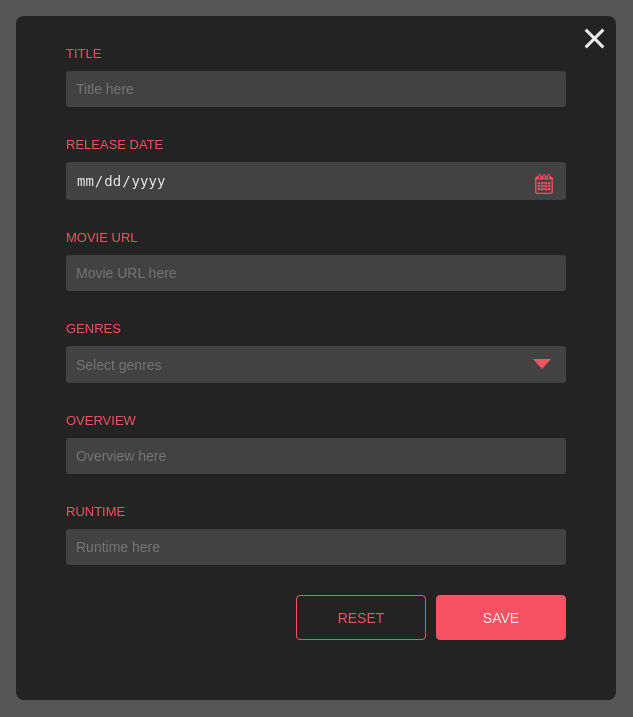
it: AddMovieModal component › Reset button must reset inputs to initial values
Submit the form
Type "test" into the field with class "modal__value" showing "title" at [316, 89], box [66, 71, 566, 107]
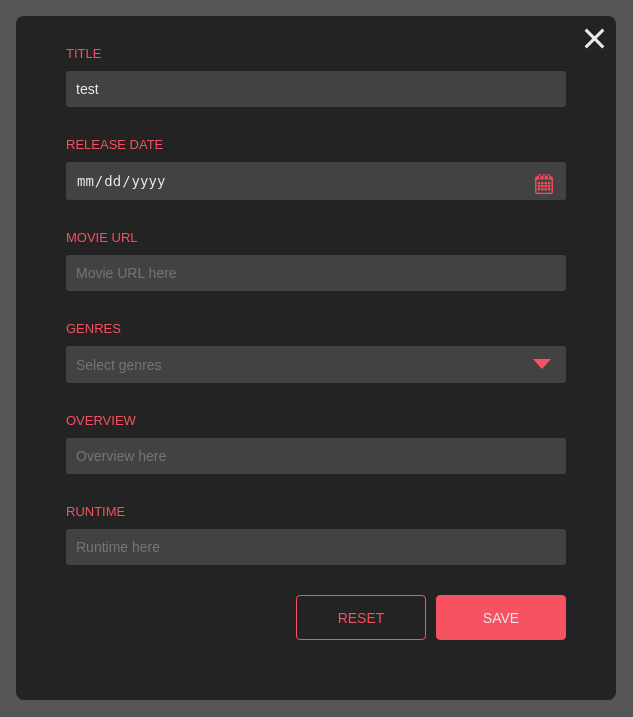
Click the button "reset" at [361, 618], box [296, 595, 426, 640]
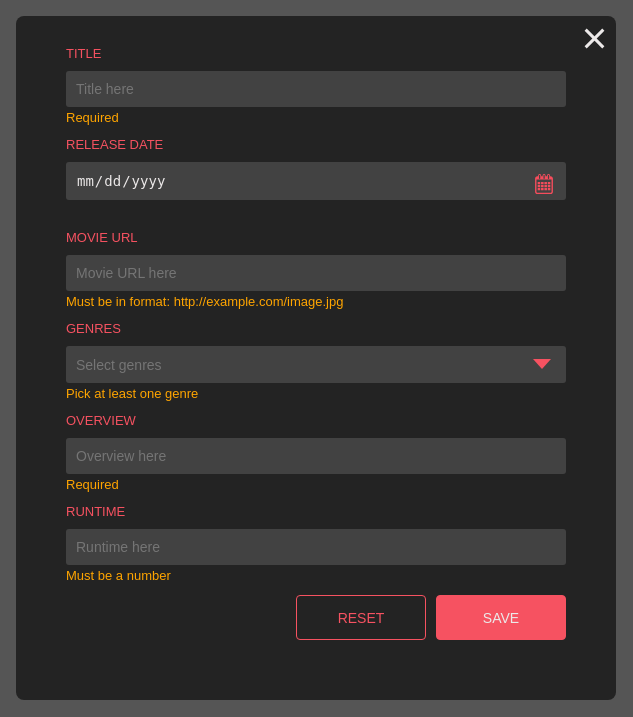
Result: the field with class "modal__value" is empty at [66, 71, 566, 107]
